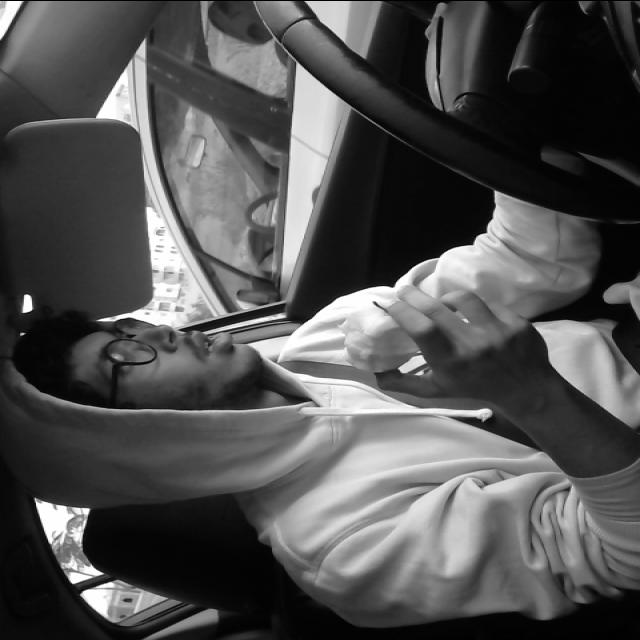eating: (326, 290, 428, 376)
